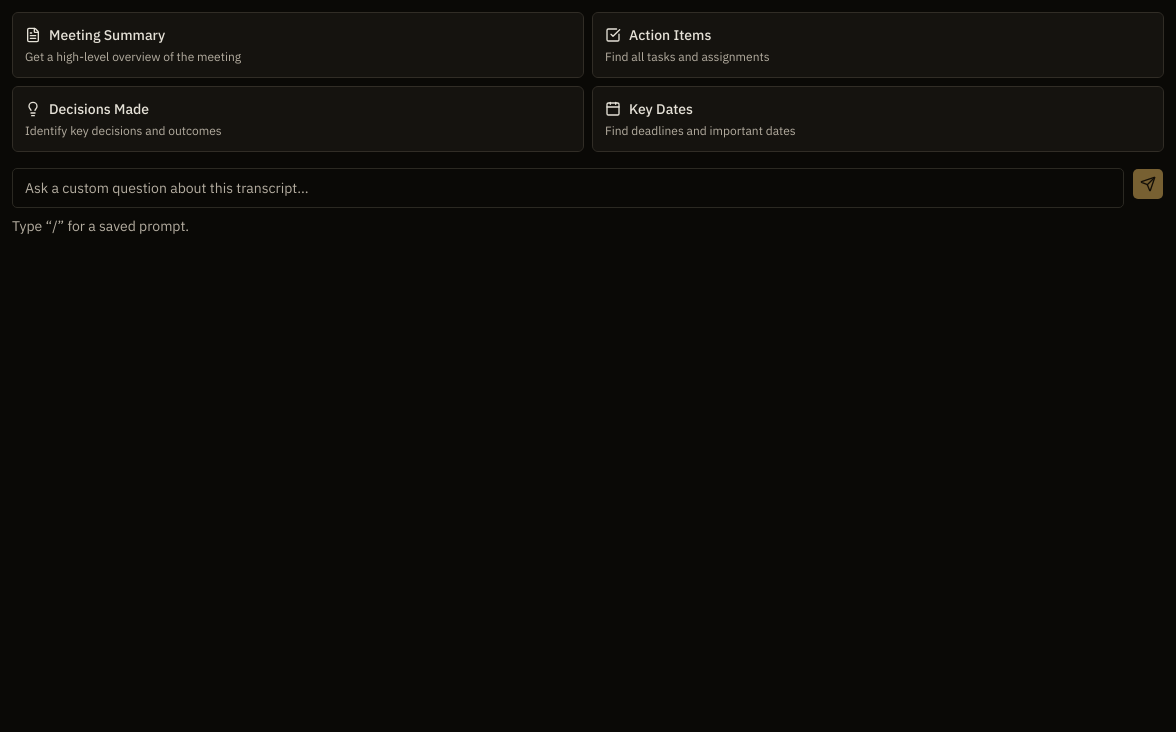
AiAnalysisPanel › runs grounded action item extraction when requested
This screenshot has width=1176, height=732.
Click the button "Action Items Find all tasks and assignments": (670, 35) 592,12 -> 1164,78
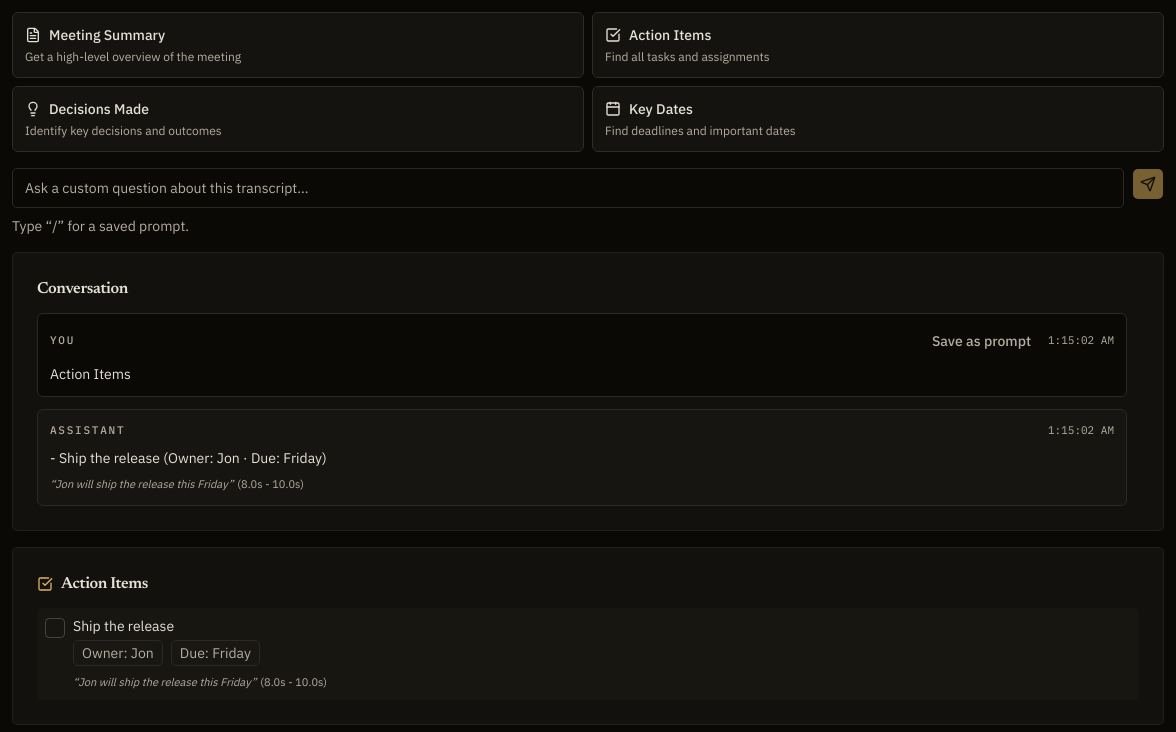
Now the text "Ship the release" is shown, box 73,617 -> 174,635
Now the text "“Jon will ship the release this Friday”(8.0s - 10.0s)" below "Assistant" is shown, box 55,477 -> 228,491
